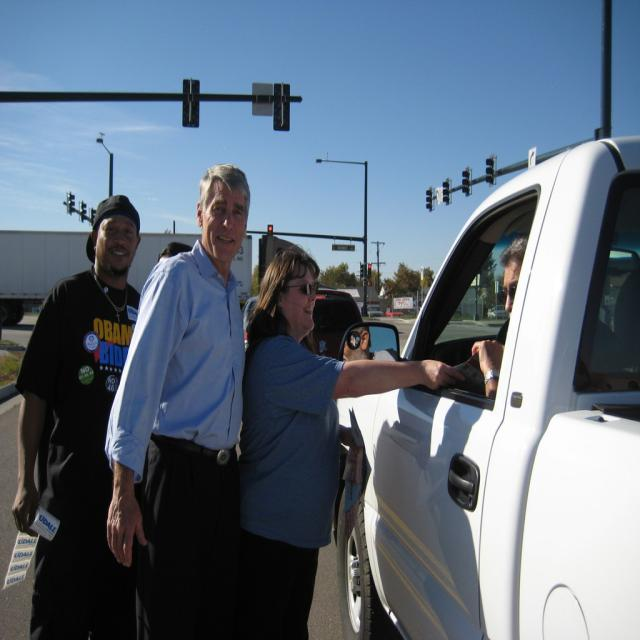car: (345, 162, 636, 634)
